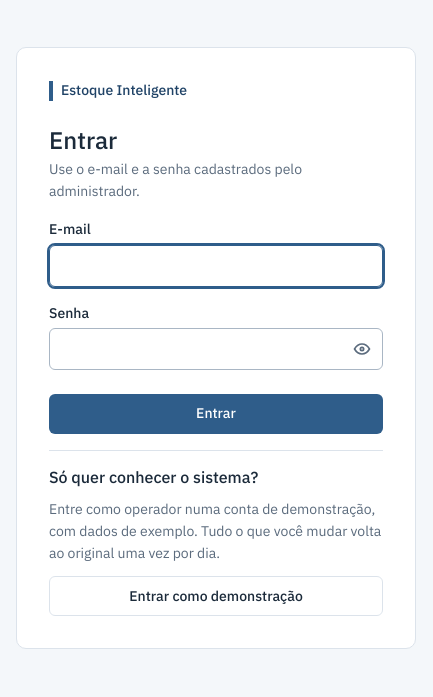
it: login com a API acordando (partida a frio) › se a API não acordar, troca o aviso pelo erro
Step 1. Click the button "Entrar como demonstração" → click(216, 596), box top-left (49, 576), bottom-right (383, 616)
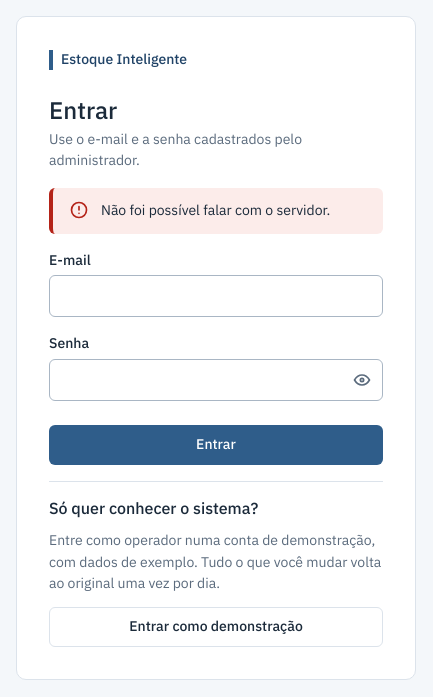
Expected: the message reads "Não foi possível falar com o servidor.", top-left (101, 201), bottom-right (330, 219)
